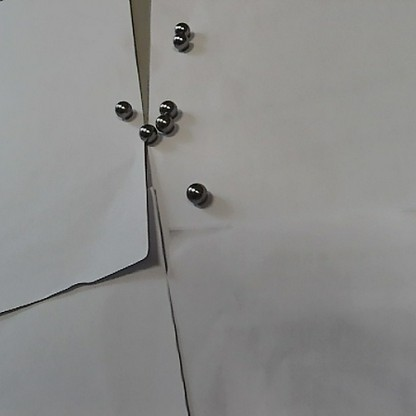ironball: (185, 183, 205, 203), (139, 124, 155, 145), (159, 99, 175, 118), (115, 99, 130, 119), (156, 117, 170, 133), (172, 36, 187, 49), (175, 21, 188, 34)
